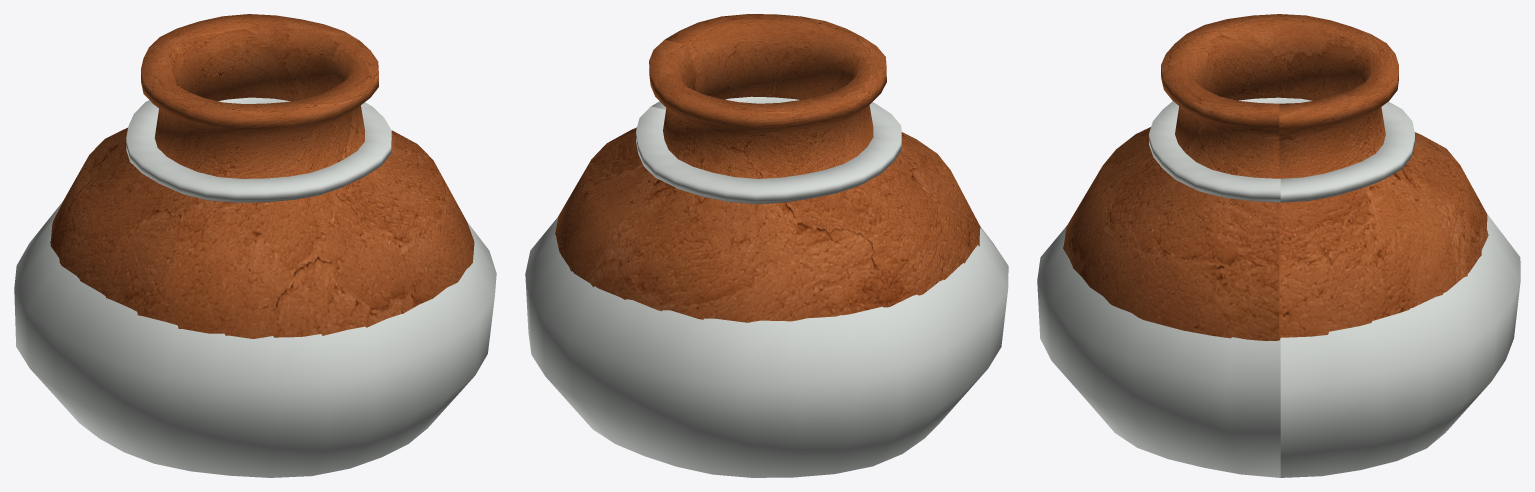
Rendered from prop_pots.glb.
The picture shows the model from 3 angles, left to right: view 1: azimuth 30°, elevation 25°; view 2: azimuth 150°, elevation 25°; view 3: azimuth 270°, elevation 25°; orthographic projection.
Visible parts, largest first — view 1: clay_rice_pot, aluminium_handi; view 2: clay_rice_pot, aluminium_handi; view 3: clay_rice_pot, aluminium_handi.
Boxes of the visible parts, x1,y1,x2,y2 form: clay_rice_pot: (50,14,474,338); aluminium_handi: (14,97,496,477); clay_rice_pot: (555,14,980,322); aluminium_handi: (525,96,1008,477); clay_rice_pot: (1063,14,1488,340); aluminium_handi: (1037,97,1520,477).
Bounding box in the file's own units: 0.38 × 0.3 × 0.38.
3 materials, 1 textured.
